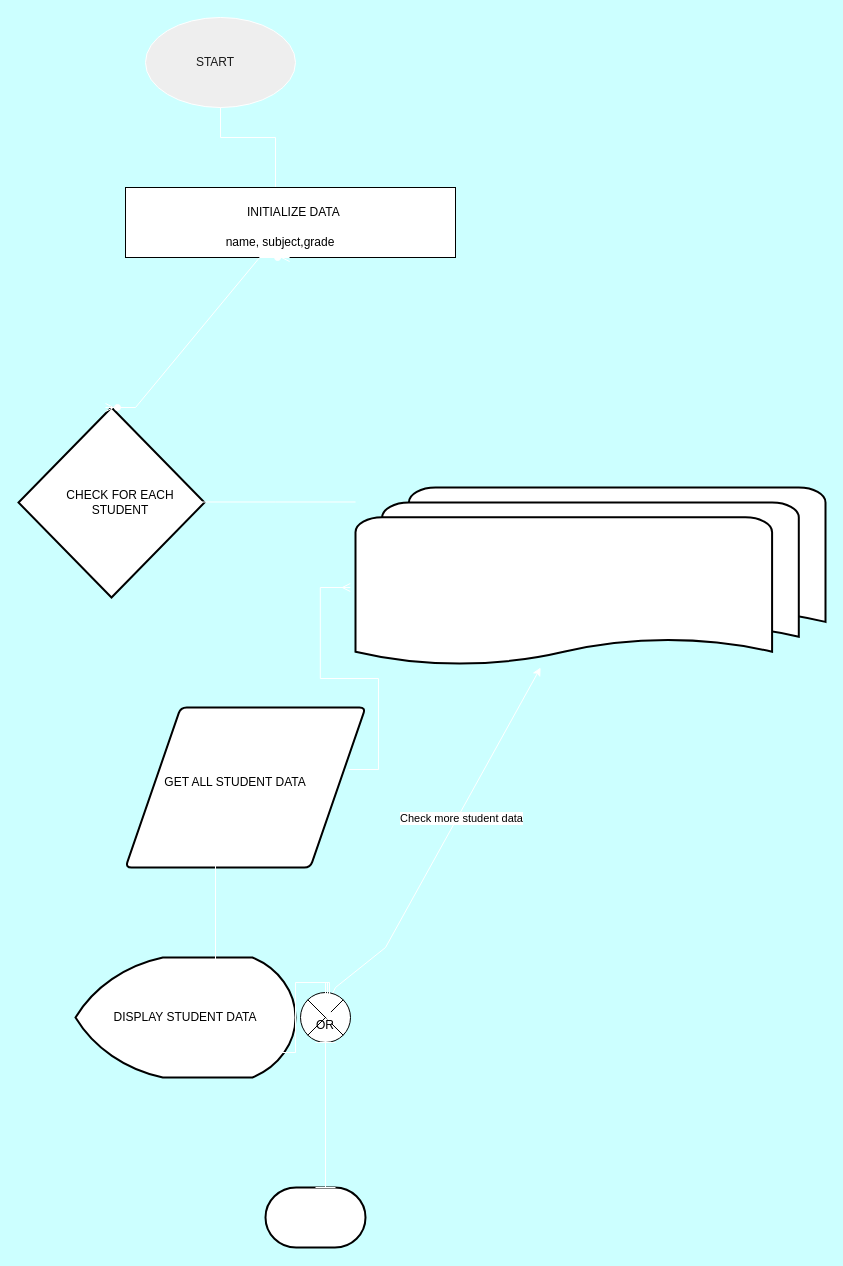
This 843x1266 diagram has some shape labels left out. Each missing label, with the box of its shape:
END: (264, 1186, 366, 1248)
LOOP OVERFLOW: (354, 486, 826, 668)
